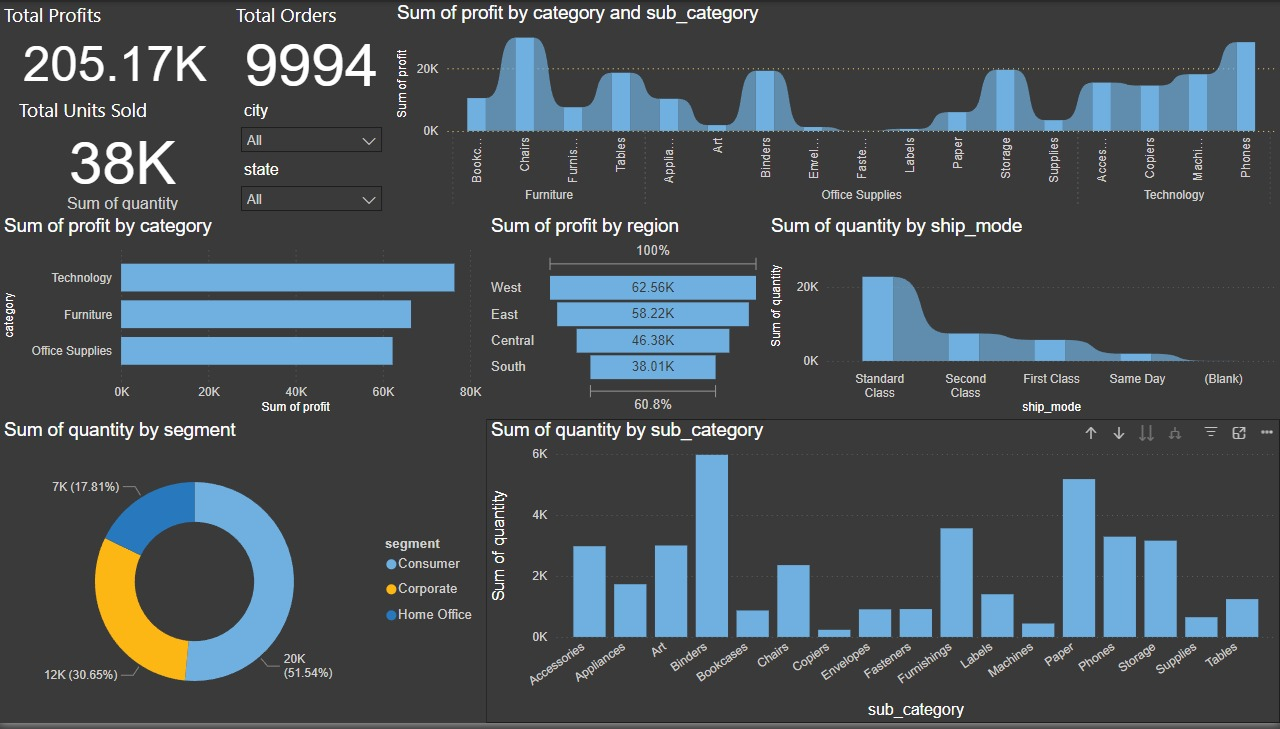

What the dashboard file says about the page in this screenshot:
{"tool":"powerbi","page":{"name":"Page 1","canvas":[1280,720],"ordinal":0},"visuals":[{"type":"funnel","fields":{"Y":["Sum(df_orders.profit)"],"Category":["df_orders.region"]},"box":[486.6,212.8,279.8,203.8],"z":0},{"type":"barChart","fields":{"Category":["df_orders.category"],"Y":["Sum(df_orders.profit)"]},"box":[0,212.8,486.6,203.8],"z":1000},{"type":"card","title":"Total Profits","fields":{"Values":["Sum(df_orders.profit)"]},"box":[0,0,231.8,94.9],"z":2000},{"type":"card","title":"Total Orders","fields":{"Values":["Count(df_orders.order_id)"]},"box":[231.8,0,160.9,94.9],"z":3000},{"type":"card","title":"Total Units Sold","fields":{"Values":["Sum(df_orders.quantity)"]},"box":[15,94.9,216.8,117.9],"z":4000},{"type":"slicer","fields":{"Values":["df_orders.state"]},"box":[231.8,153.9,160.9,62],"z":5000},{"type":"slicer","fields":{"Values":["df_orders.city"]},"box":[231.8,94.9,160.9,56],"z":6000},{"type":"clusteredColumnChart","fields":{"Category":["df_orders.category","df_orders.sub_category"],"Y":["Sum(df_orders.quantity)"]},"box":[486.6,416.7,793.4,303.8],"z":7000},{"type":"donutChart","fields":{"Y":["Sum(df_orders.quantity)"],"Category":["df_orders.segment"]},"box":[0,416.7,486.6,303.8],"z":8000},{"type":"ribbonChart","fields":{"Y":["Sum(df_orders.quantity)"],"Category":["df_orders.ship_mode"]},"box":[766.4,212.8,513.6,203.8],"z":9000},{"type":"ribbonChart","fields":{"Category":["df_orders.category","df_orders.sub_category"],"Y":["Sum(df_orders.profit)"]},"box":[392.7,0,887.3,212.8],"z":10000}]}

Visuals, with their boxes in screenshot pixels (x1, y1, x2, y2), scaled from the page's 1280x720 canvas onto the 1280x729 screenshot:
funnel - Sum(df_orders.profit) x df_orders.region: Rect(487, 215, 766, 422)
barChart - df_orders.category x Sum(df_orders.profit): Rect(0, 215, 487, 422)
"Total Profits" card: Rect(0, 0, 232, 96)
"Total Orders" card: Rect(232, 0, 393, 96)
"Total Units Sold" card: Rect(15, 96, 232, 215)
slicer - df_orders.state: Rect(232, 156, 393, 219)
slicer - df_orders.city: Rect(232, 96, 393, 153)
clusteredColumnChart - df_orders.category x df_orders.sub_category: Rect(487, 422, 1279, 728)
donutChart - Sum(df_orders.quantity) x df_orders.segment: Rect(0, 422, 487, 728)
ribbonChart - Sum(df_orders.quantity) x df_orders.ship_mode: Rect(766, 215, 1279, 422)
ribbonChart - df_orders.category x df_orders.sub_category: Rect(393, 0, 1279, 215)
